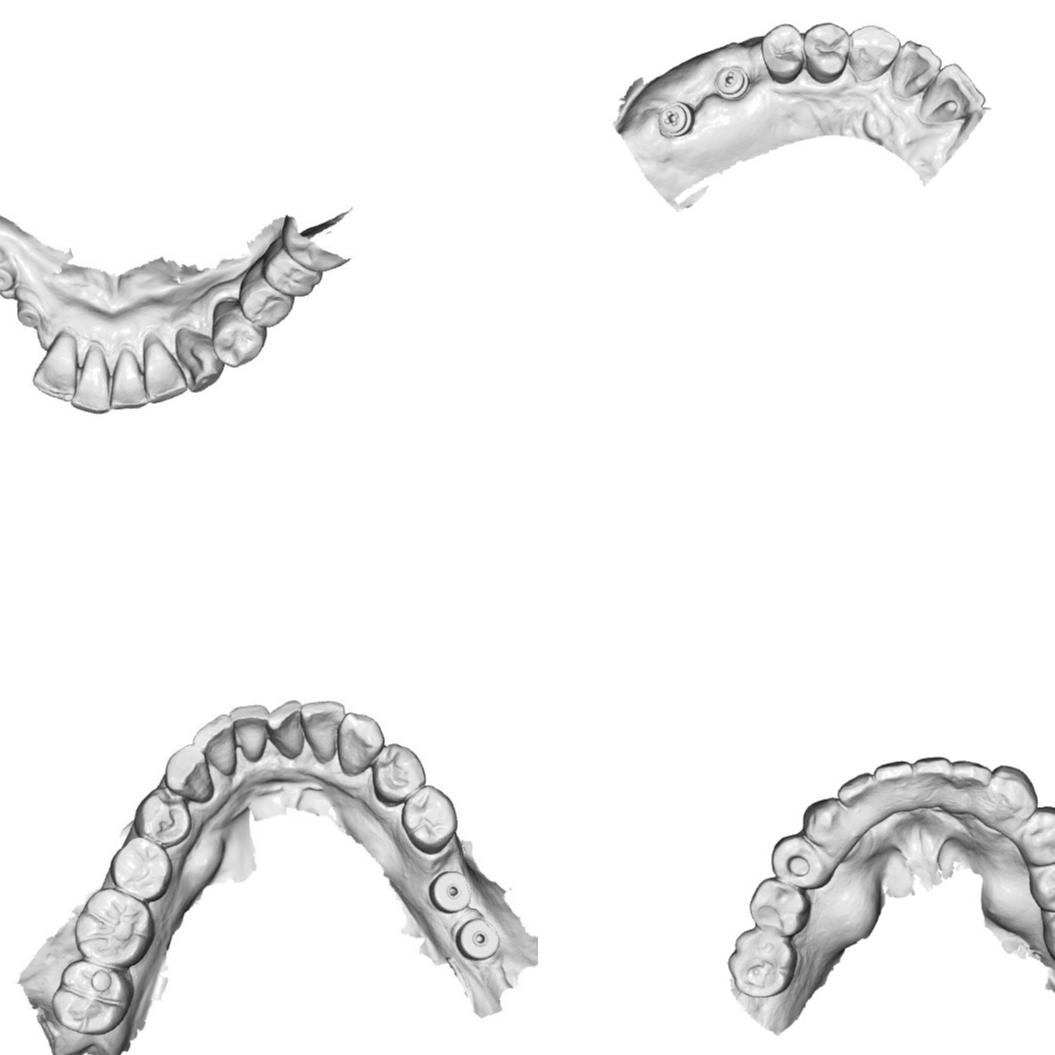canine: (331, 710, 385, 778), (845, 23, 901, 83), (178, 329, 224, 396), (990, 764, 1038, 822), (166, 742, 210, 799), (800, 796, 846, 845)
implant: (451, 917, 504, 961), (426, 869, 472, 916), (13, 297, 45, 330), (0, 260, 22, 296)
implant_minus: (712, 64, 750, 102)
implant_plus: (655, 99, 694, 140)
incisor: (916, 62, 986, 128), (891, 38, 944, 100), (33, 335, 80, 396), (196, 714, 236, 777), (142, 334, 182, 396), (71, 348, 111, 409), (303, 699, 341, 761), (233, 704, 271, 763), (111, 342, 146, 404), (874, 758, 914, 808), (270, 700, 305, 757), (952, 760, 992, 806), (914, 755, 952, 803), (836, 770, 876, 812)
molar: (76, 887, 148, 962), (52, 963, 125, 1031), (727, 929, 798, 998), (261, 233, 327, 302)
premolar: (364, 739, 428, 809), (400, 782, 460, 855), (235, 256, 294, 330), (747, 876, 811, 936), (213, 294, 262, 367), (113, 837, 171, 897), (771, 832, 828, 890), (801, 20, 851, 84), (758, 21, 804, 85), (137, 790, 189, 845), (1020, 805, 1055, 866), (1028, 854, 1055, 913)
